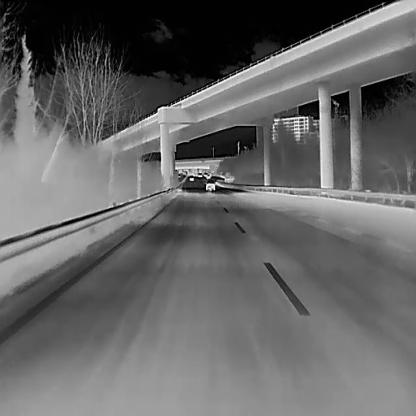car: (204, 179, 214, 190), (188, 175, 194, 180), (197, 172, 202, 176), (203, 172, 207, 176)
